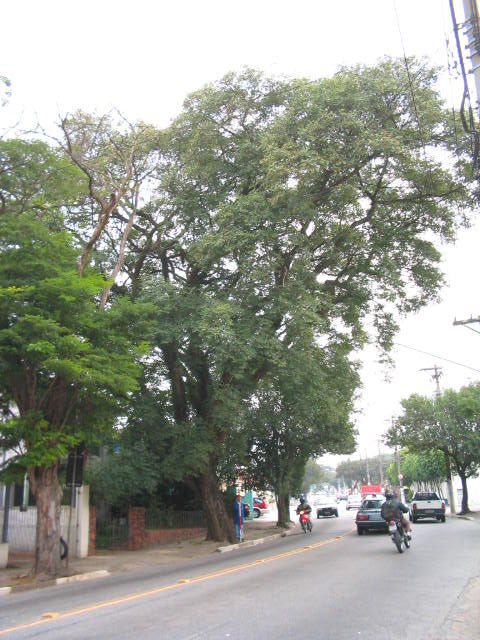crown: (3, 139, 161, 475), (384, 383, 479, 480)
stem: (13, 483, 83, 576), (189, 477, 239, 544), (453, 479, 474, 518)
stick: (231, 464, 247, 543)
tree: (141, 58, 476, 545), (1, 136, 164, 577), (382, 381, 480, 515)
